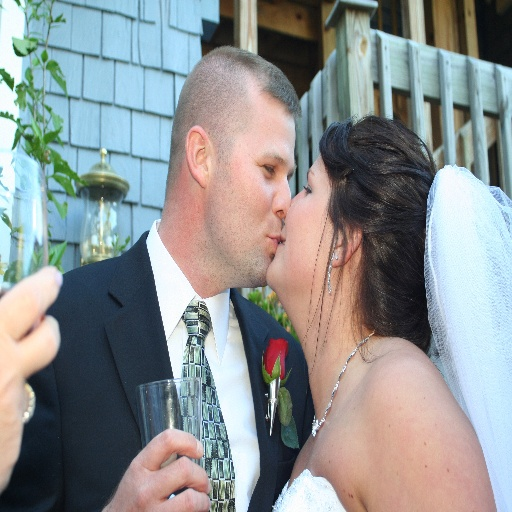hand: (0, 262, 63, 494), (120, 433, 210, 512)
